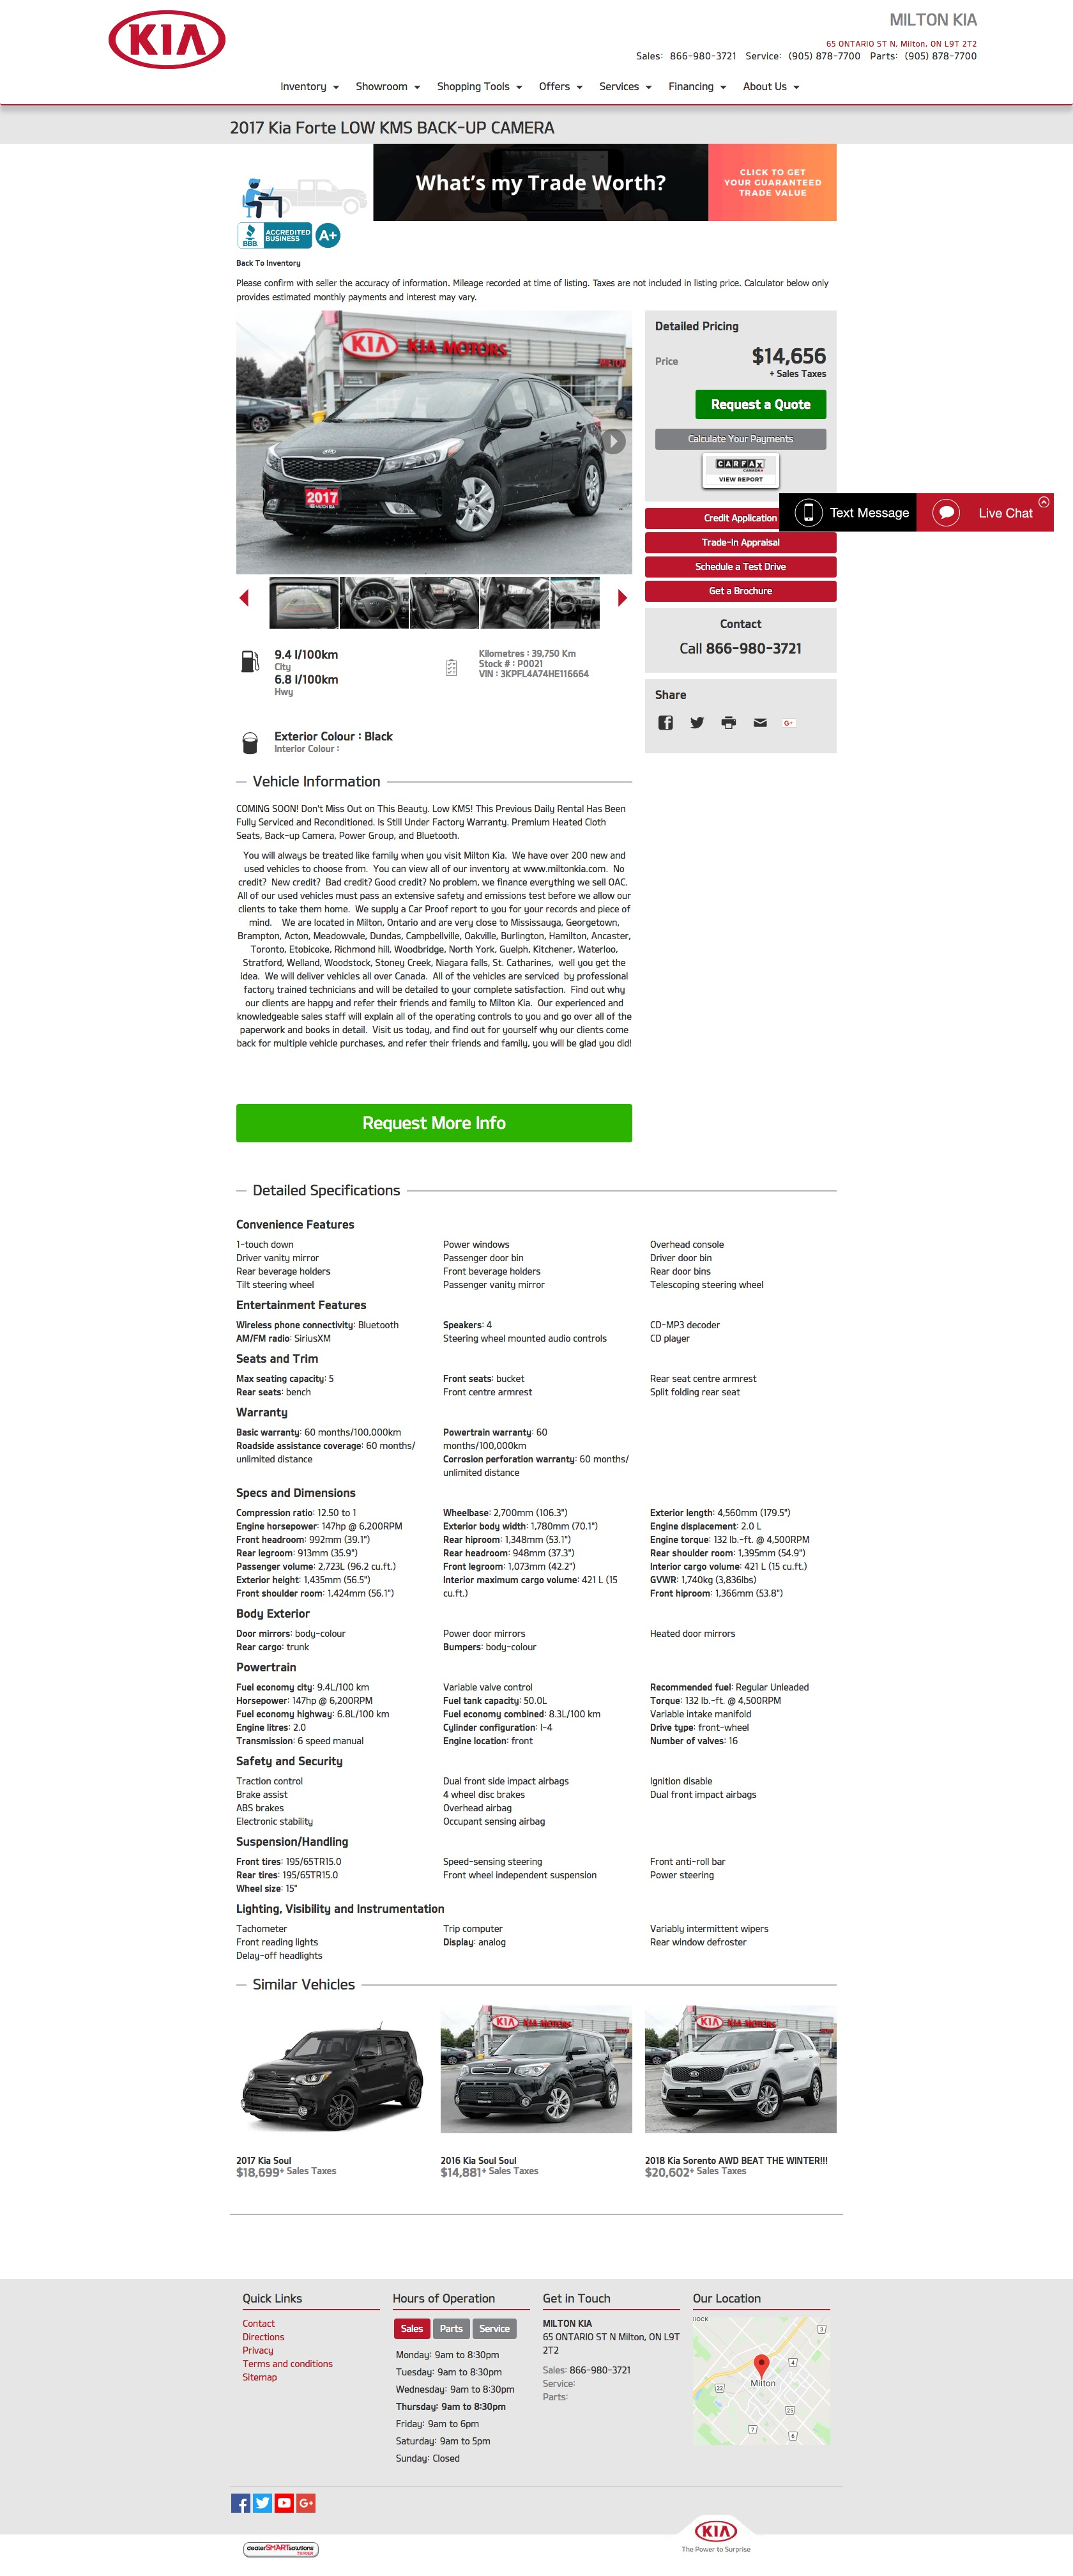car: (618, 588, 628, 608)
